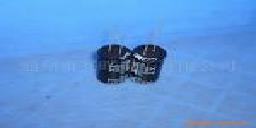Electrolytic-capacitor: (129, 25, 167, 88), (97, 22, 131, 83)
